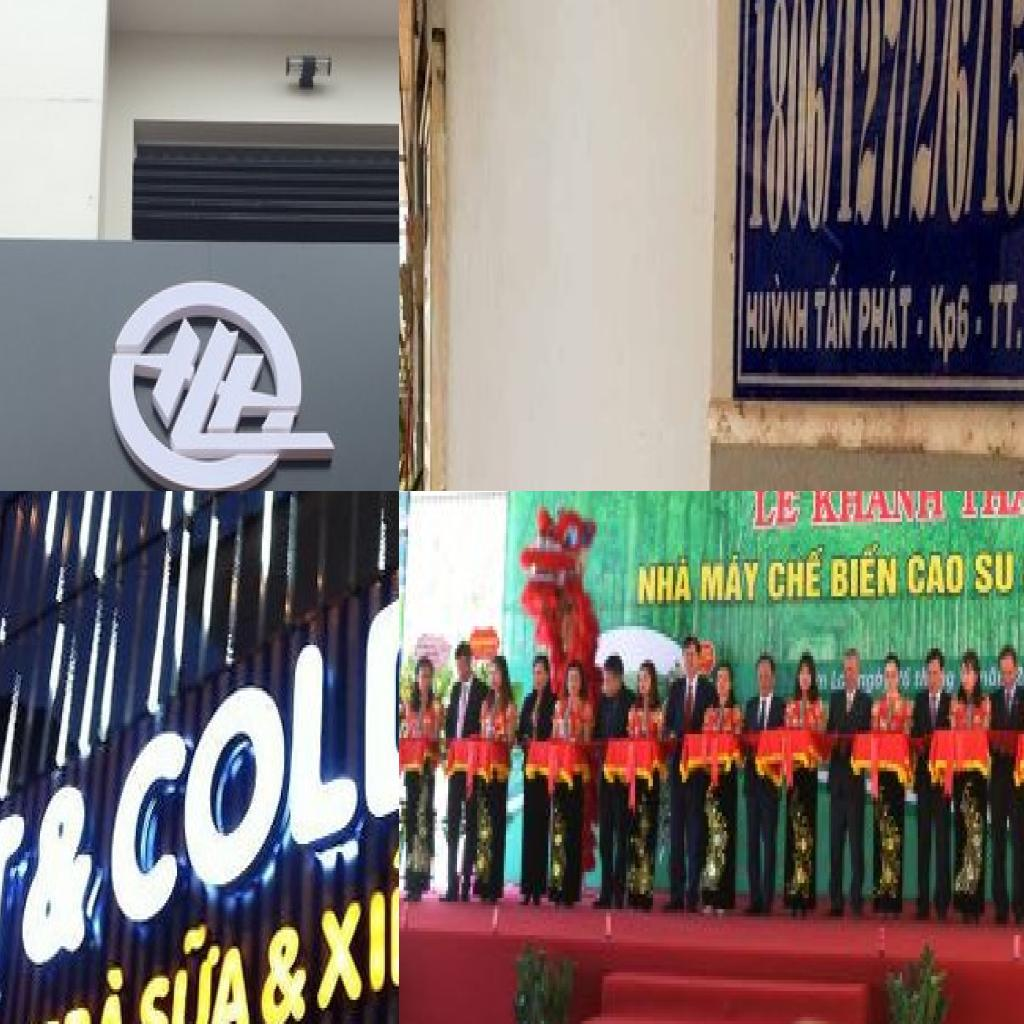text: (101, 543, 399, 949), (746, 0, 1024, 242), (312, 808, 399, 1021), (20, 758, 98, 973), (134, 913, 252, 1024), (856, 264, 931, 362), (19, 959, 129, 1024), (743, 267, 813, 362), (926, 278, 987, 376), (260, 916, 312, 1024), (811, 491, 949, 529), (812, 256, 858, 366), (831, 540, 900, 604), (766, 544, 826, 604), (633, 556, 697, 612), (984, 274, 1024, 362), (700, 552, 762, 608), (907, 552, 967, 600), (751, 491, 802, 533), (955, 491, 1024, 522), (973, 548, 1016, 596)
